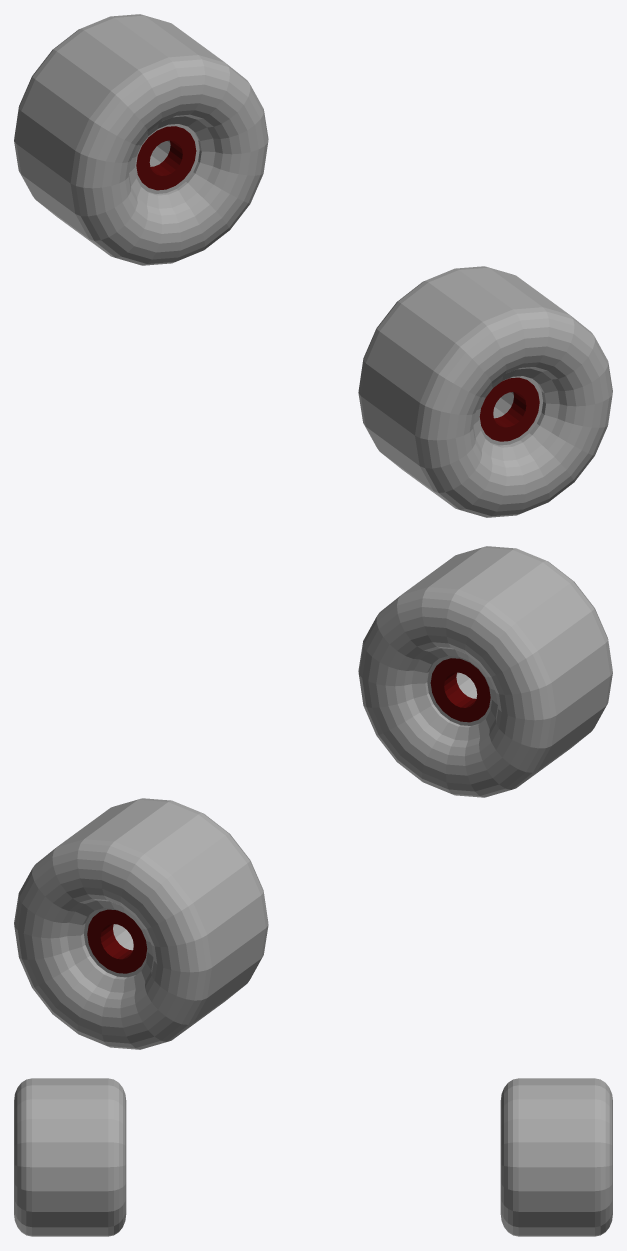
Rendered from MediumWheels.fbx.
The picture shows the model from 3 angles, top to bottom: view 1: azimuth 30°, elevation 25°; view 2: azimuth 150°, elevation 25°; view 3: azimuth 270°, elevation 25°; orthographic projection. The views are drawn at different scales.
Parts seen in each view (by area): view 1: MediumWheels; view 2: MediumWheels; view 3: MediumWheels.
Part boxes in pixels (x1,y1,x2,y2): MediumWheels: (14,14,612,517); MediumWheels: (14,546,612,1049); MediumWheels: (14,1078,612,1236).
Bounding box in the file's own units: 0.575 × 0.575 × 2.16.
